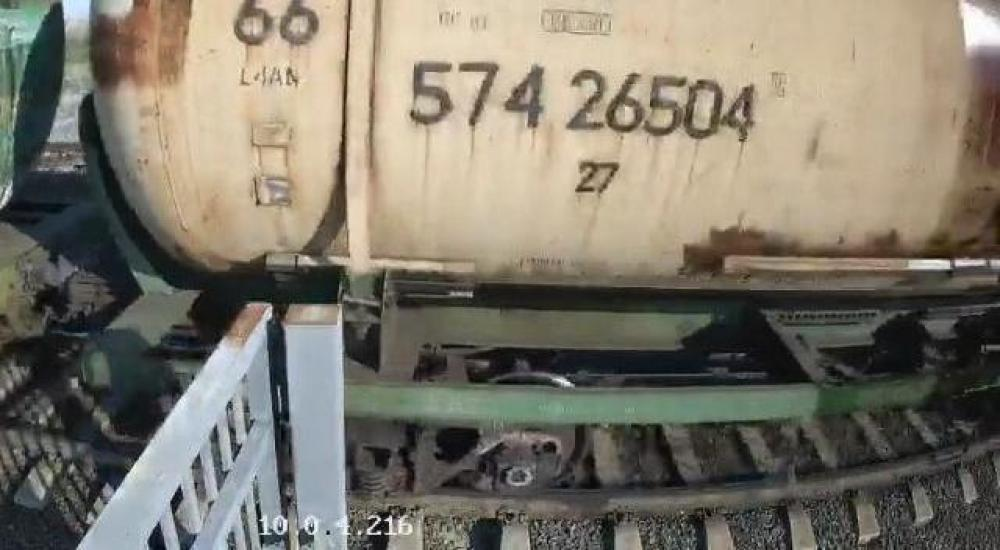Wagon-number: (406, 54, 758, 147)
